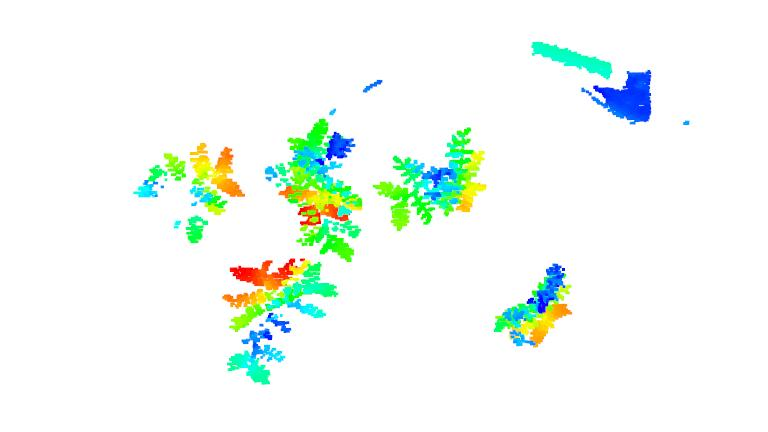chickpea: (219, 255, 338, 388), (268, 121, 370, 263), (134, 141, 246, 248), (377, 126, 490, 232), (489, 261, 574, 350)
